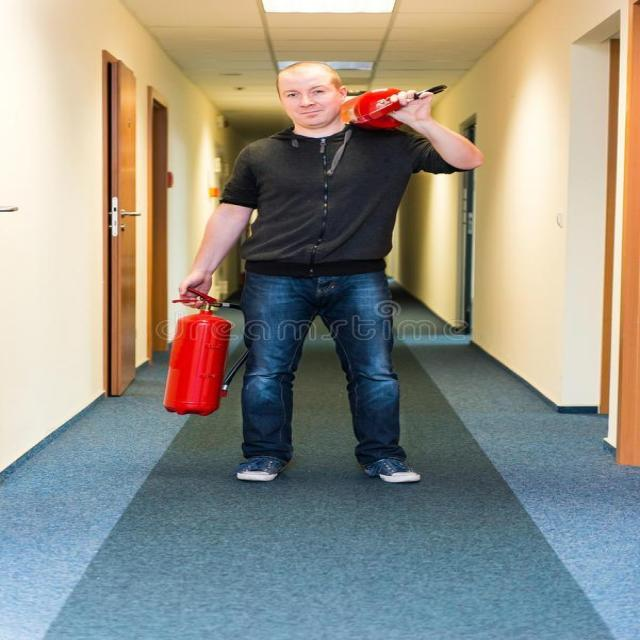FireExtinguisher: (147, 283, 266, 421), (332, 72, 452, 134)
